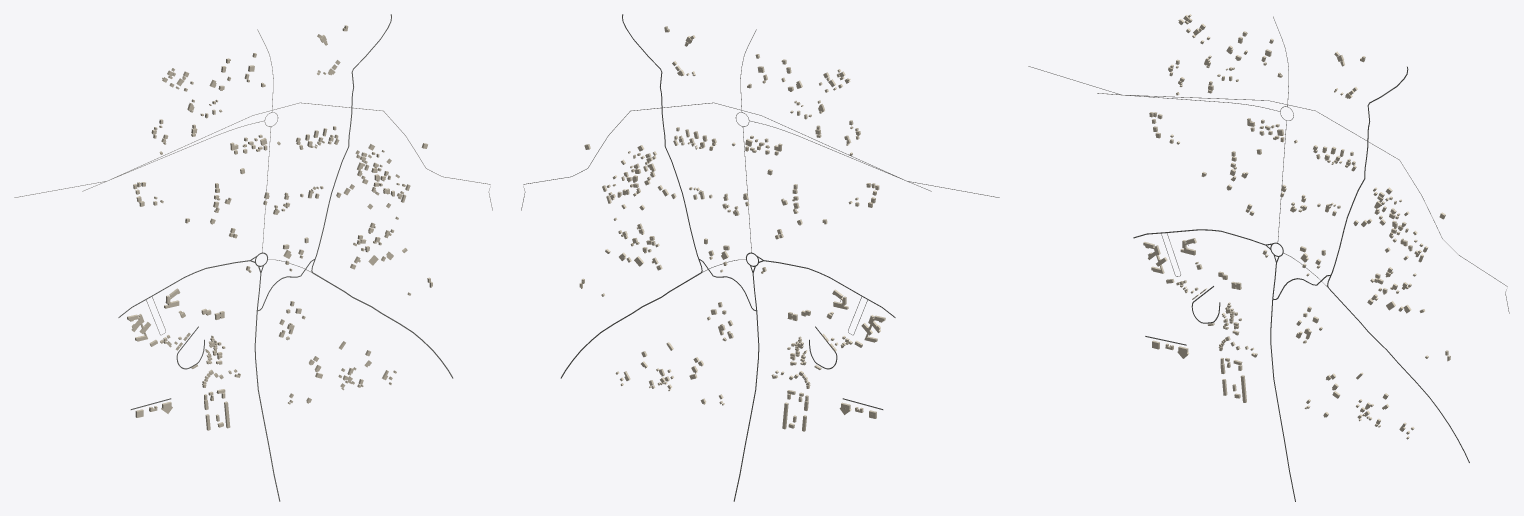
Rendered from historic-palestine-05_16_3470_3102.glb.
The picture shows the model from 3 angles, left to right: view 1: azimuth 30°, elevation 25°; view 2: azimuth 150°, elevation 25°; view 3: azimuth 330°, elevation 25°; orthographic projection.
Parts seen in each view (by area): view 1: Road; view 2: Road; view 3: Road.
Boxes of the visible parts, x1,y1,x2,y2 form: Road: (14,102,492,210); Road: (521,102,999,210); Road: (1028,66,1509,313).
Size of the model in its own units: 1511 by 1442 by 8.7.
